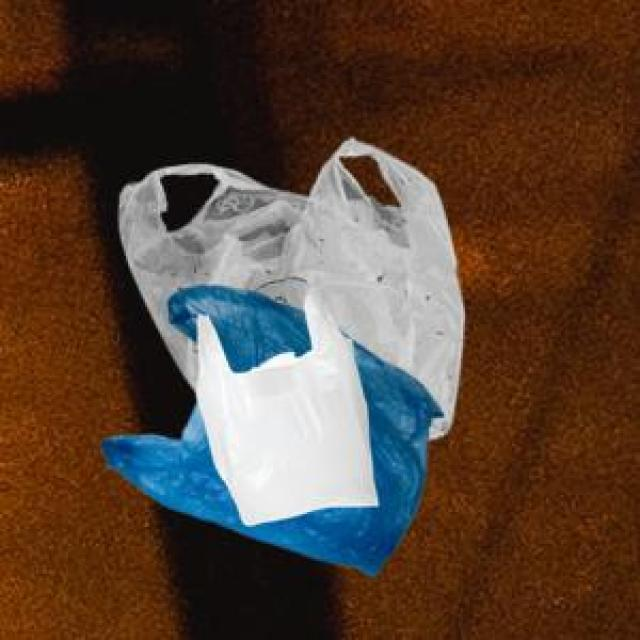waste: (106, 139, 464, 574)
